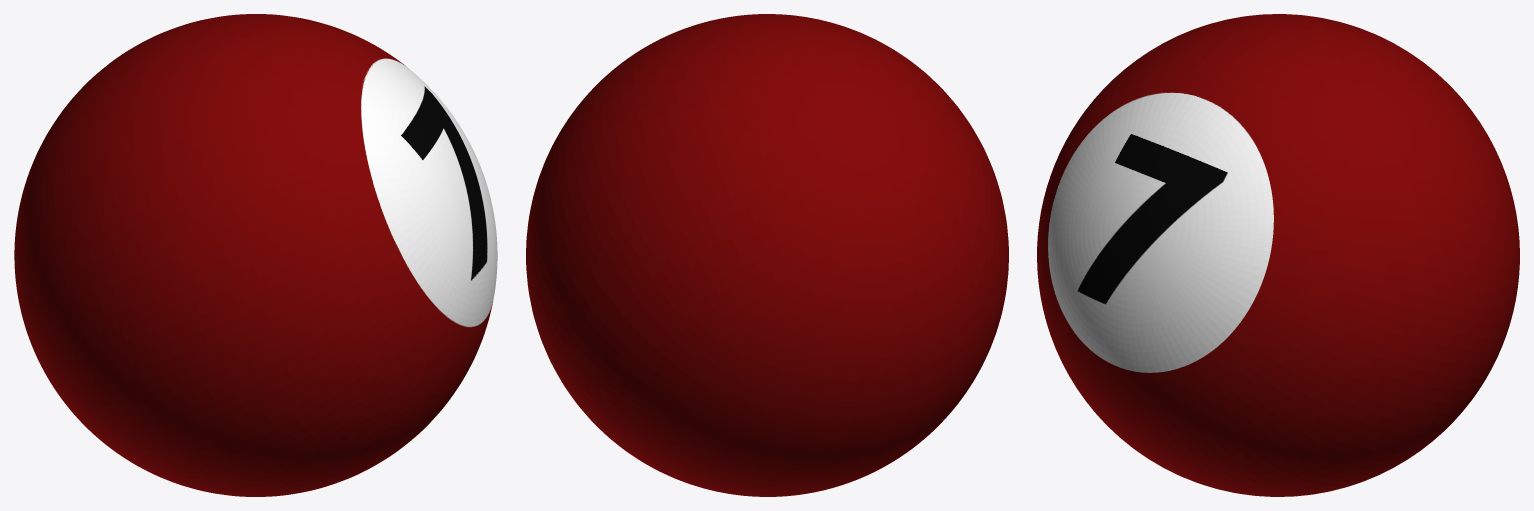
The picture shows the model from 3 angles, left to right: view 1: azimuth 30°, elevation 25°; view 2: azimuth 150°, elevation 25°; view 3: azimuth 270°, elevation 25°; orthographic projection.
Visible parts, largest first — view 1: Sphere; view 2: Sphere; view 3: Sphere.
Part boxes in pixels (box(x1,y1,x2,y2)): Sphere: box(14, 14, 497, 496); Sphere: box(526, 14, 1008, 496); Sphere: box(1037, 14, 1519, 496).
Size of the model in its own units: 3.7 by 3.7 by 3.7.
1 material, 1 textured.
